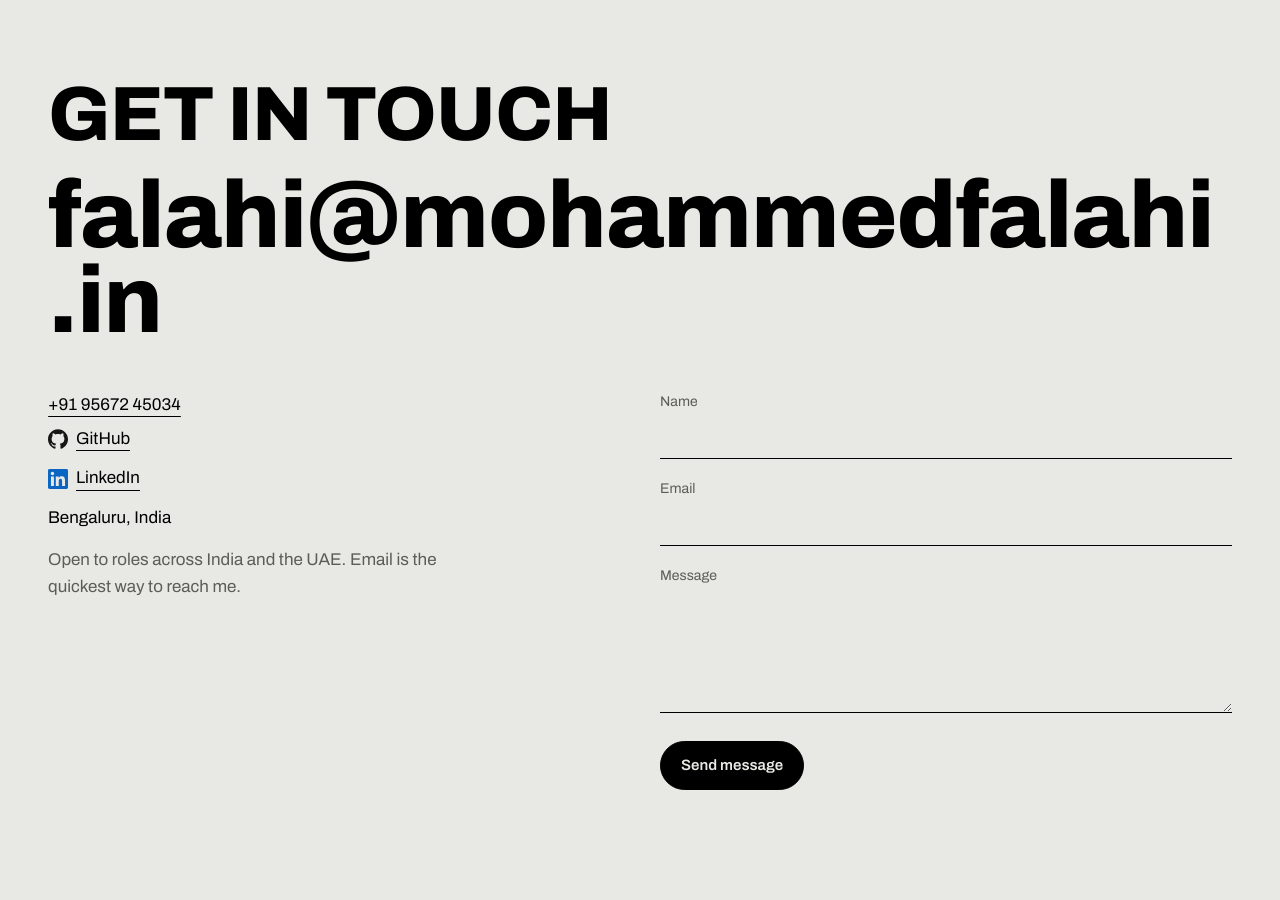
Contact › confirms and clears the fields on success, posting JSON to Formspree
The width and height of the screenshot is (1280, 900).
In the field labelled "Name": (946, 437) [660,416,1232,459], type "Ada"
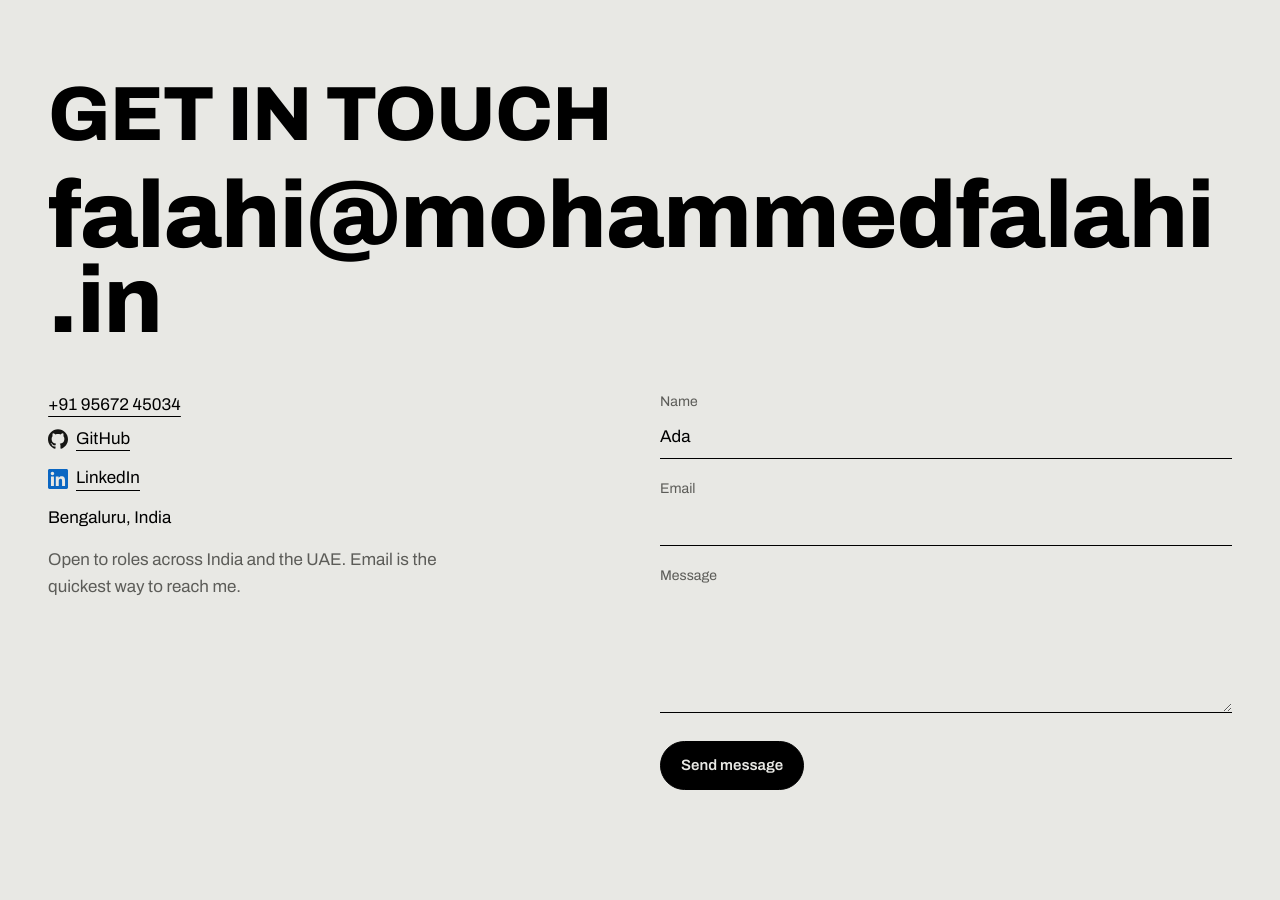
In the field labelled "Email": (946, 525) [660,503,1232,546], type "ada@example.com"
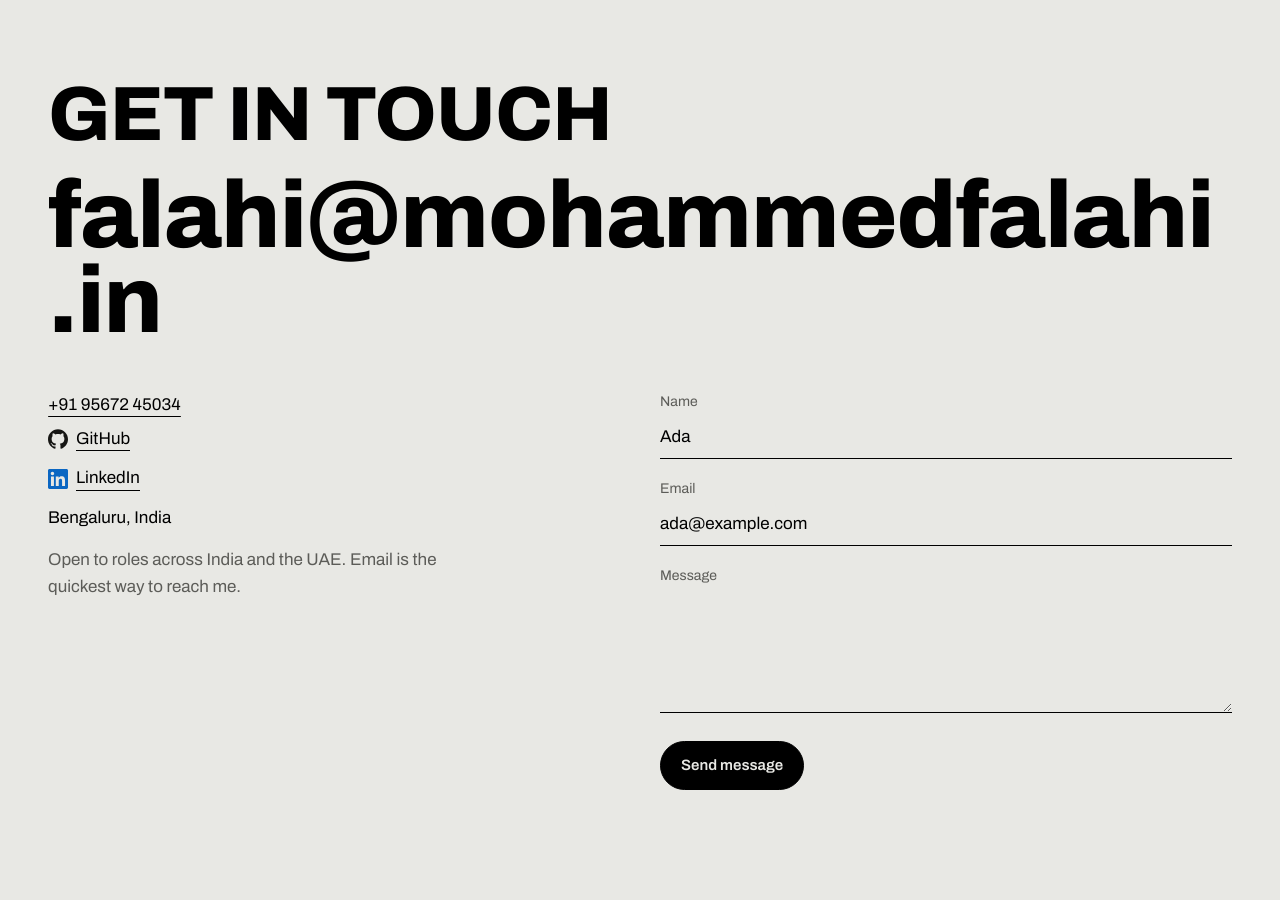
In the text box labelled "Message": (946, 652) [660,590,1232,713], type "Hello there"
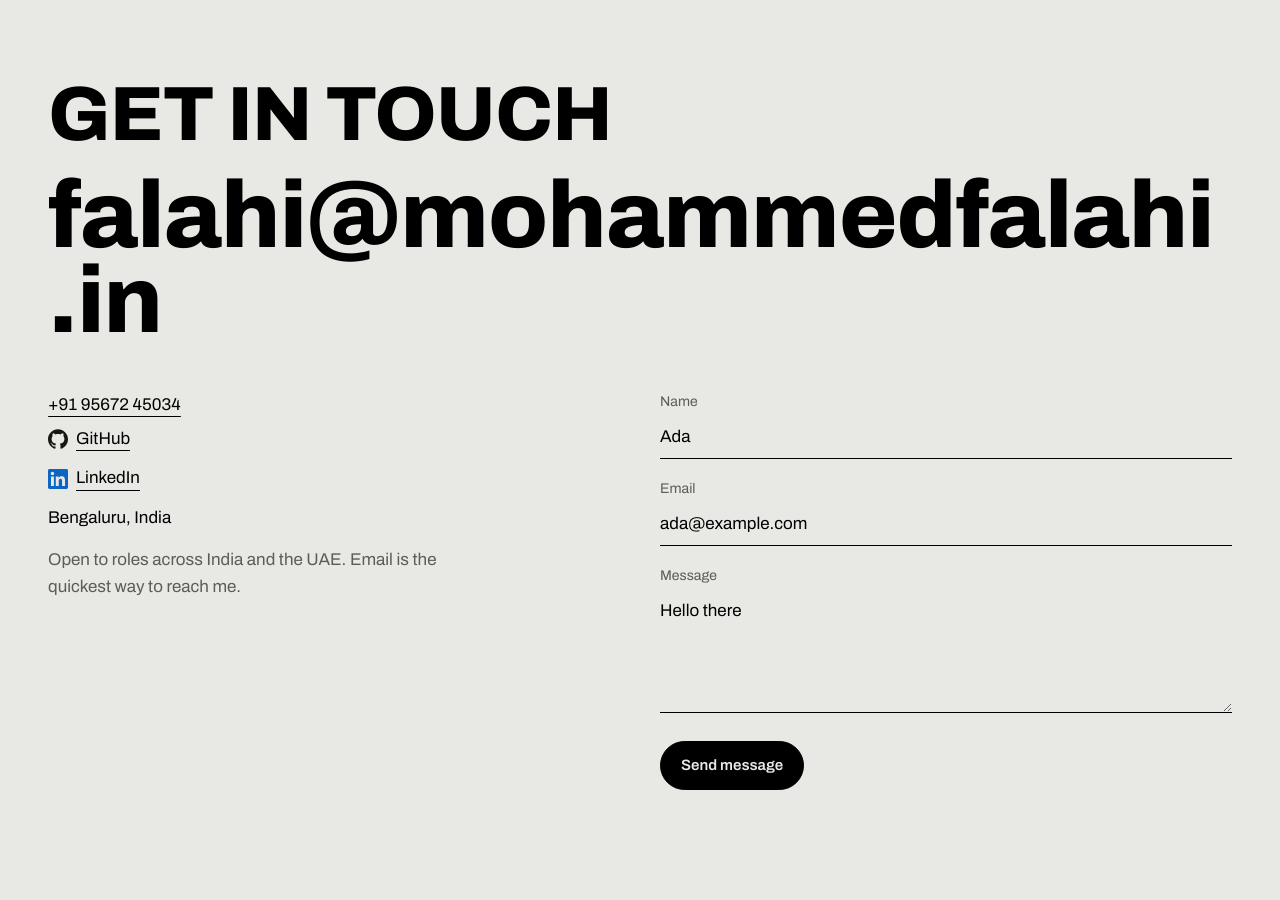
Click the button "Send message": (732, 766) [660,741,804,790]
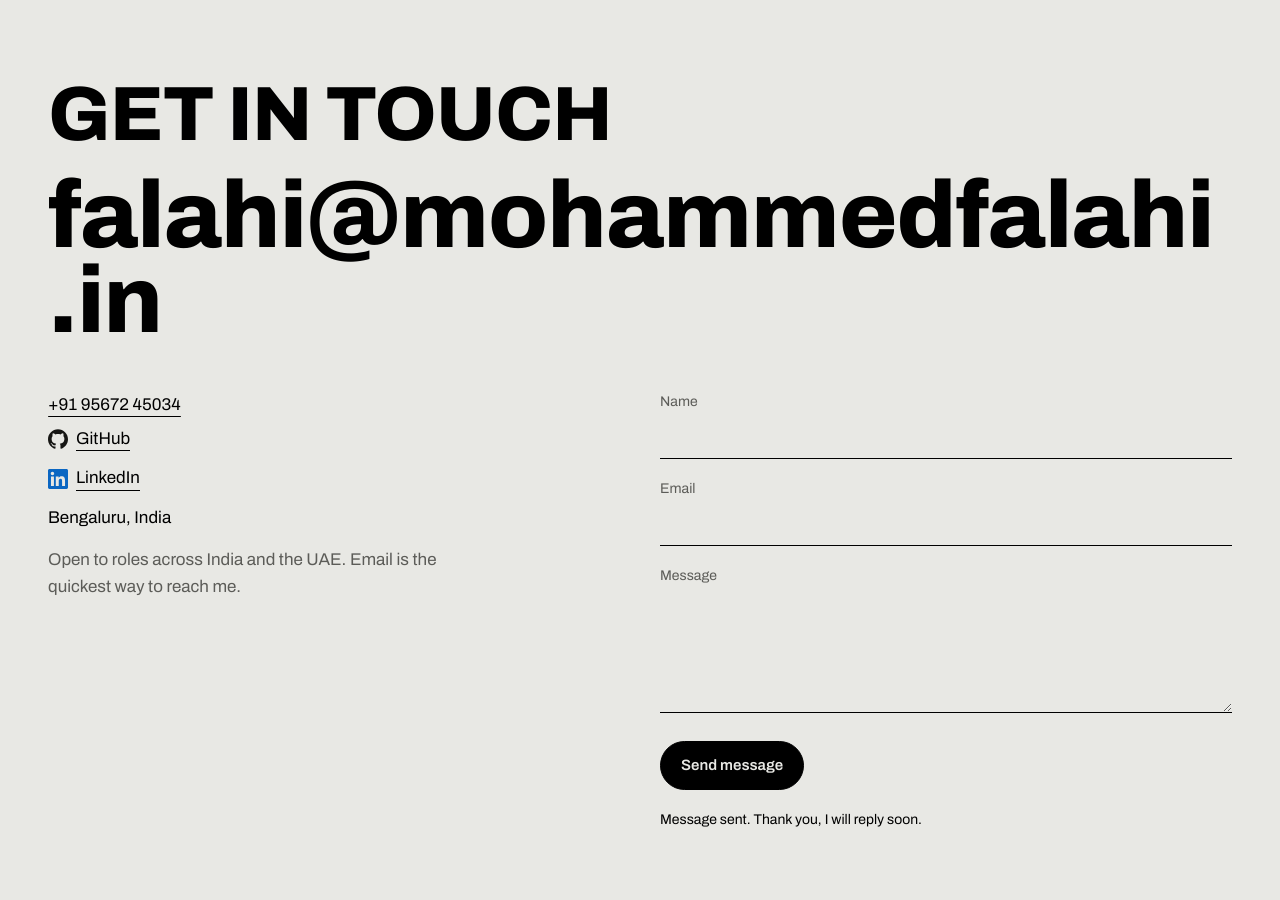
Expected: the text "Message sent. Thank you, I will reply soon." is shown, [660,812,922,827]
Expected: the field labelled "Name" is empty, [660,416,1232,459]
Expected: the field labelled "Email" is empty, [660,503,1232,546]
